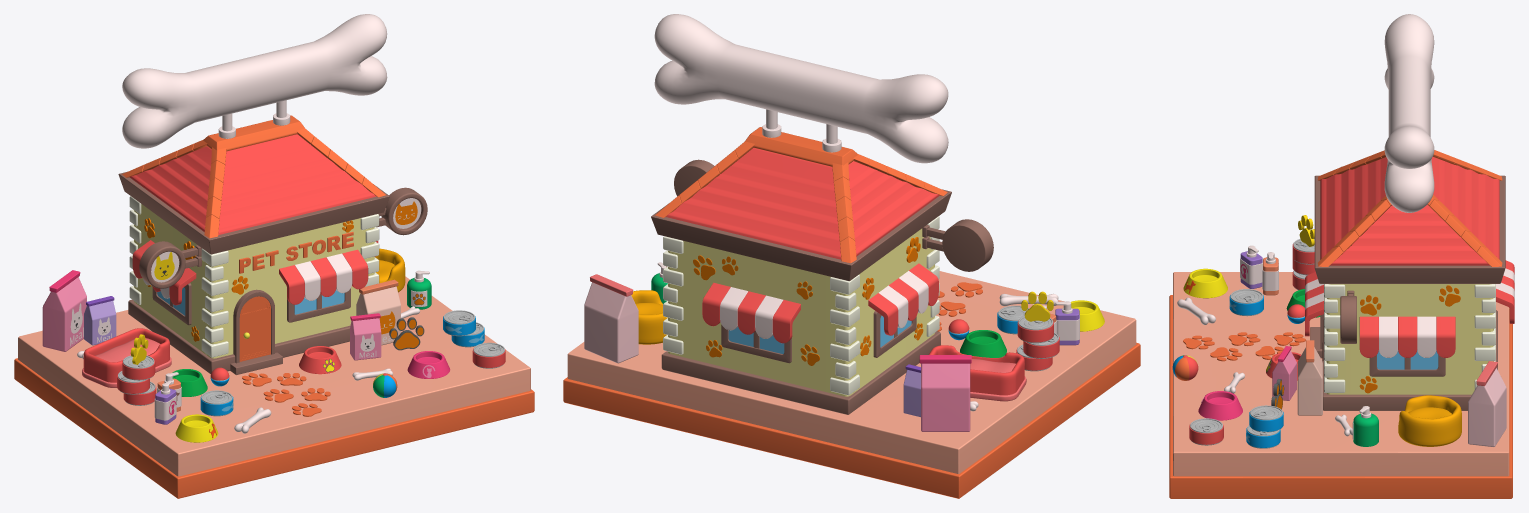
The model's file is Store_Island_11.glb.
The picture shows the model from 3 angles, left to right: view 1: azimuth 30°, elevation 25°; view 2: azimuth 150°, elevation 25°; view 3: azimuth 270°, elevation 25°; orthographic projection. The views are drawn at different scales.
Parts seen in each view (by area): view 1: Store_11_Pet_Store_1, Store_11_Base_1, Store_11_Big_Bone_Sign_1, Store_11_Dog_Meal_1, Store_11_Animal_Bed_2, Store_11_Animal_Sign_1, Store_11_Cat_Meal_2, Store_11_Animal_Sign_2, Store_11_Path_of_Paws_1, Store_11_Dog_Meal_3, Store_11_Dog_Meal_2, Store_11_Animal_Bowl_1 (+11 smaller); view 2: Store_11_Pet_Store_1, Store_11_Base_1, Store_11_Big_Bone_Sign_1, Store_11_Cat_Meal_1, Store_11_Dog_Meal_1, Store_11_Animal_Bed_2, Store_11_Animal_Sign_1, Store_11_Animal_Bed_1, Store_11_Animal_Bowl_4, Store_11_Shampoo_Animals_3, Store_11_Dog_Meal_2, Store_11_Canned_Food_7 (+6 smaller); view 3: Store_11_Pet_Store_1, Store_11_Base_1, Store_11_Big_Bone_Sign_1, Store_11_Animal_Bed_1, Store_11_Cat_Meal_1, Store_11_Cat_Meal_2, Store_11_Path_of_Paws_1, Store_11_Animal_Bowl_1, Store_11_Animal_Bowl_2, Store_11_Dog_Meal_3, Store_11_Shampoo_Animals_1, Store_11_Animal_Sign_2 (+10 smaller).
Part boxes in pixels (x1,y1,x2,y2): Store_11_Pet_Store_1: (118, 115, 389, 375); Store_11_Base_1: (14, 276, 534, 498); Store_11_Big_Bone_Sign_1: (122, 14, 387, 148); Store_11_Dog_Meal_1: (42, 270, 86, 351); Store_11_Animal_Bed_2: (82, 328, 171, 387); Store_11_Animal_Sign_1: (139, 241, 201, 288); Store_11_Cat_Meal_2: (356, 279, 400, 345); Store_11_Animal_Sign_2: (376, 187, 427, 235); Store_11_Path_of_Paws_1: (242, 373, 330, 416); Store_11_Dog_Meal_3: (350, 313, 381, 360); Store_11_Dog_Meal_2: (84, 296, 116, 345); Store_11_Animal_Bowl_1: (175, 414, 218, 442); Store_11_Pet_Store_1: (651, 127, 951, 414); Store_11_Base_1: (563, 271, 1140, 498); Store_11_Big_Bone_Sign_1: (654, 14, 948, 163); Store_11_Cat_Meal_1: (584, 274, 638, 363); Store_11_Dog_Meal_1: (919, 355, 971, 431); Store_11_Animal_Bed_2: (929, 345, 1026, 401); Store_11_Animal_Sign_1: (922, 219, 993, 271); Store_11_Animal_Bed_1: (631, 290, 667, 344); Store_11_Animal_Bowl_4: (960, 330, 1006, 357); Store_11_Shampoo_Animals_3: (1055, 301, 1079, 345); Store_11_Dog_Meal_2: (903, 364, 920, 417); Store_11_Canned_Food_7: (1017, 316, 1053, 343); Store_11_Pet_Store_1: (1305, 150, 1514, 410); Store_11_Base_1: (1169, 272, 1512, 498); Store_11_Big_Bone_Sign_1: (1384, 14, 1434, 212); Store_11_Animal_Bed_1: (1398, 395, 1461, 446); Store_11_Cat_Meal_1: (1468, 361, 1506, 446); Store_11_Cat_Meal_2: (1297, 340, 1322, 415); Store_11_Path_of_Paws_1: (1183, 332, 1305, 361); Store_11_Animal_Bowl_1: (1183, 268, 1227, 298); Store_11_Animal_Bowl_2: (1198, 391, 1242, 420); Store_11_Dog_Meal_3: (1272, 346, 1296, 400); Store_11_Shampoo_Animals_1: (1352, 406, 1378, 446); Store_11_Animal_Sign_2: (1340, 290, 1356, 343).
Size of the model in its own units: 13.71 by 11.93 by 10.93.
35 materials, 35 textured.
